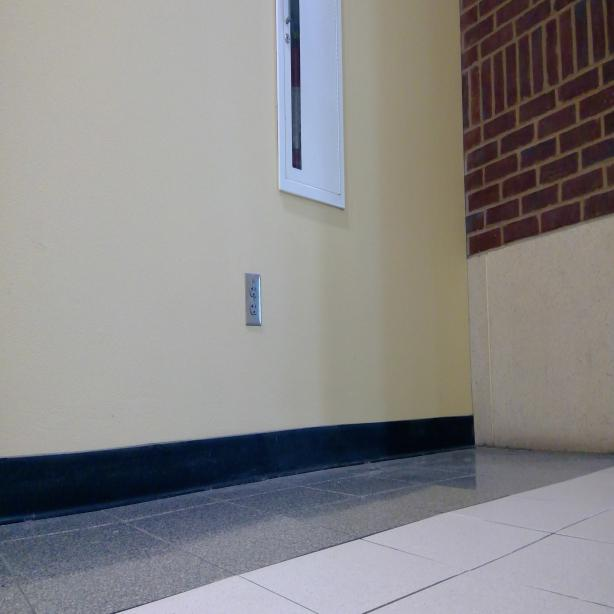typeb: (250, 300, 258, 316), (250, 284, 258, 298)
